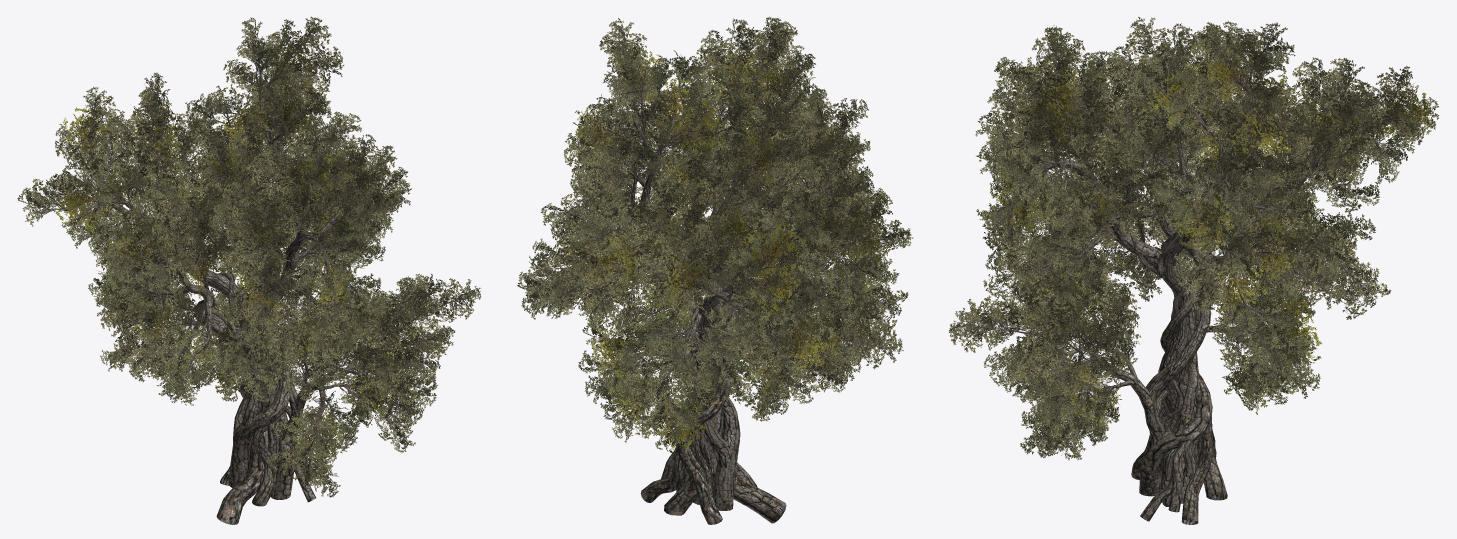
The model's file is tree.glb.
3 views of the same model, side by side, from view 1: azimuth 30°, elevation 25°; view 2: azimuth 150°, elevation 25°; view 3: azimuth 270°, elevation 25° (orthographic). The views are drawn at different scales.
Parts seen in each view (by area): view 1: Plane_22, Plane_21, 13_Leaf8_0, Sweep_NURBS, Sweep_NURBS_1, Plane_14, Sweep_NURBS_1_3, Sweep_NURBS_1_4, Sweep_NURBS_1_2, Sweep_NURBS_1_5; view 2: Plane_21, Plane_22, 13_Leaf8_0, Sweep_NURBS_1, Sweep_NURBS, Plane_14, Sweep_NURBS_1_4, Sweep_NURBS_1_3, Sweep_NURBS_1_5, Sweep_NURBS_1_2; view 3: Plane_22, Plane_21, 13_Leaf8_0, Sweep_NURBS, Sweep_NURBS_1, Plane_14, Sweep_NURBS_1_3, Sweep_NURBS_1_2, Sweep_NURBS_1_5, Sweep_NURBS_1_4.
Part boxes in pixels (left/top/right/bottom): Plane_22: left=47, top=21, right=475, bottom=491; Plane_21: left=17, top=16, right=481, bottom=497; 13_Leaf8_0: left=55, top=34, right=404, bottom=461; Sweep_NURBS: left=137, top=44, right=393, bottom=499; Sweep_NURBS_1: left=216, top=386, right=315, bottom=524; Plane_14: left=25, top=33, right=415, bottom=429; Sweep_NURBS_1_3: left=63, top=36, right=463, bottom=478; Sweep_NURBS_1_4: left=31, top=41, right=375, bottom=349; Sweep_NURBS_1_2: left=90, top=134, right=283, bottom=472; Sweep_NURBS_1_5: left=53, top=128, right=422, bottom=456; Plane_21: left=517, top=16, right=912, bottom=445; Plane_22: left=526, top=22, right=911, bottom=438; 13_Leaf8_0: left=556, top=47, right=885, bottom=456; Sweep_NURBS_1: left=640, top=391, right=786, bottom=524; Sweep_NURBS: left=564, top=46, right=891, bottom=510; Plane_14: left=538, top=64, right=908, bottom=411; Sweep_NURBS_1_4: left=567, top=50, right=859, bottom=354; Sweep_NURBS_1_3: left=548, top=33, right=893, bottom=404; Sweep_NURBS_1_5: left=521, top=92, right=878, bottom=437; Sweep_NURBS_1_2: left=682, top=171, right=867, bottom=504; Plane_22: left=949, top=27, right=1436, bottom=454; Plane_21: left=949, top=17, right=1439, bottom=460; 13_Leaf8_0: left=992, top=39, right=1433, bottom=431; Sweep_NURBS: left=1015, top=46, right=1332, bottom=496; Sweep_NURBS_1: left=1131, top=379, right=1227, bottom=524; Plane_14: left=979, top=22, right=1391, bottom=419; Sweep_NURBS_1_3: left=972, top=35, right=1414, bottom=441; Sweep_NURBS_1_2: left=1155, top=103, right=1396, bottom=475; Sweep_NURBS_1_5: left=991, top=109, right=1404, bottom=455; Sweep_NURBS_1_4: left=1007, top=33, right=1351, bottom=302.
Bounding box in the file's own units: 27.99 × 36.73 × 31.83.
Materials: 5 (5 with a texture image).
